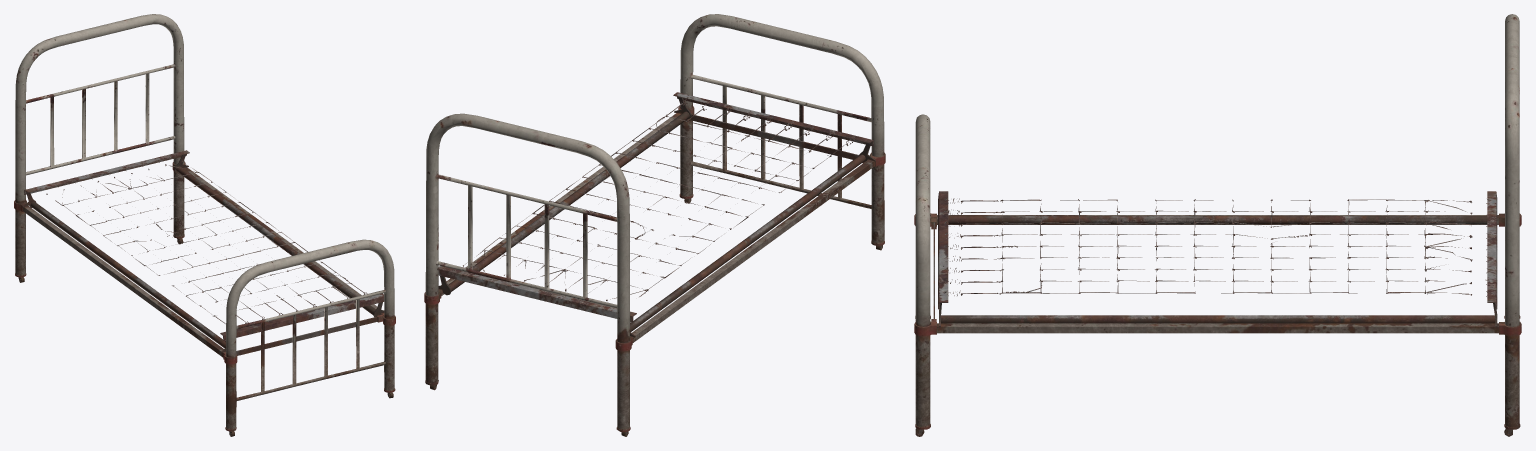
Rendered from old_bed_frame.gltf.
3 views of the same model, side by side, from view 1: azimuth 30°, elevation 25°; view 2: azimuth 150°, elevation 25°; view 3: azimuth 270°, elevation 25° (orthographic). The views are drawn at different scales.
Parts seen in each view (by area): view 1: old_bed_frame; view 2: old_bed_frame; view 3: old_bed_frame.
Part boxes in pixels (left/top/right/bottom): old_bed_frame: left=14, top=14, right=395, bottom=436; old_bed_frame: left=424, top=14, right=885, bottom=436; old_bed_frame: left=914, top=14, right=1521, bottom=436.
Size of the model in its own units: 0.9047 by 1.2 by 2.
Materials: 1 (1 with a texture image).
